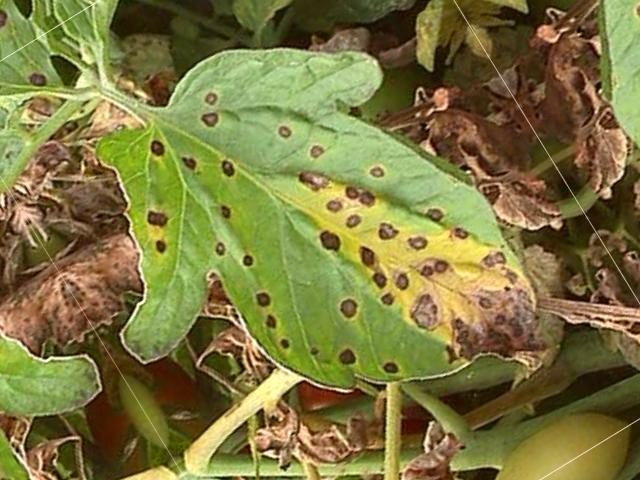Tomato leaf bacterial spot: (12, 0, 594, 480)
